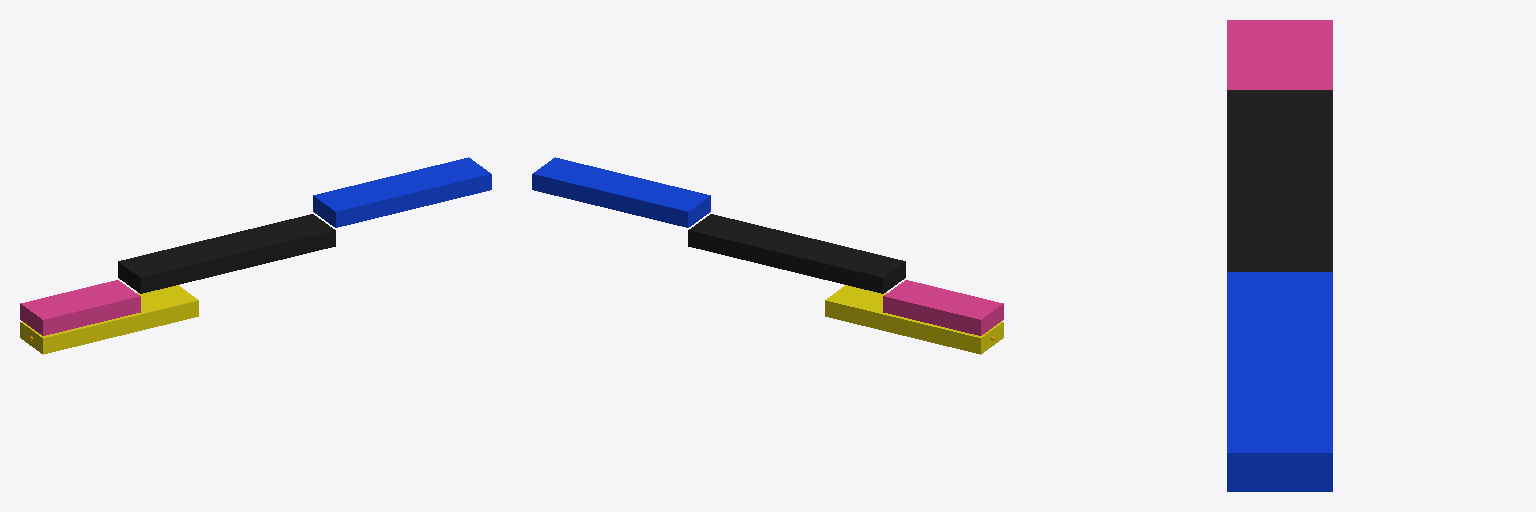
robot.urdf — four_bar_linkage:
<?xml version="1.0" encoding="UTF-8"?>
<!--
  Four-Bar Linkage URDF
  Crank-Rocker-Rocker Configuration
  
  Dimensions:
    Ground (L1): 80mm = 0.08m
    Crank  (L2): 50mm = 0.05m
    Coupler(L3): 100mm = 0.10m
    Rocker (L4): 80mm = 0.08m
  
  Colors mapping requested by user:
    Ground  = Yellow
    Crank   = Pink
    Coupler = Black
    Rocker  = Blue
-->
<robot name="four_bar_linkage">

  <!-- ==================== MATERIALS ==================== -->
  <material name="yellow">
    <color rgba="0.9 0.85 0.1 1.0"/>
  </material>
  <material name="pink">
    <color rgba="0.9 0.3 0.6 1.0"/>
  </material>
  <material name="black">
    <color rgba="0.15 0.15 0.15 1.0"/>
  </material>
  <material name="blue">
    <color rgba="0.1 0.3 0.9 1.0"/>
  </material>

  <!-- ==================== BASE LINK ==================== -->
  <link name="base_link">
    <visual>
      <geometry>
        <sphere radius="0.001"/>
      </geometry>
    </visual>
  </link>

  <!-- ==================== GROUND LINK (L1 = 80mm) - YELLOW ==================== -->
  <link name="ground_link">
    <visual>
      <origin xyz="0.04 0 0" rpy="0 0 0"/>
      <geometry>
        <box size="0.08 0.02 0.008"/>
      </geometry>
      <material name="yellow"/>
    </visual>
    <inertial>
      <origin xyz="0.04 0 0"/>
      <mass value="0.1"/>
      <inertia ixx="1e-6" ixy="0" ixz="0" iyy="1e-6" iyz="0" izz="1e-6"/>
    </inertial>
  </link>

  <joint name="fixed_base" type="fixed">
    <parent link="base_link"/>
    <child link="ground_link"/>
    <origin xyz="0 0 0" rpy="0 0 0"/>
  </joint>

  <!-- ==================== CRANK LINK (L2 = 50mm) - PINK ==================== -->
  <link name="crank_link">
    <visual>
      <origin xyz="0.025 0 0" rpy="0 0 0"/>
      <geometry>
        <box size="0.05 0.02 0.008"/>
      </geometry>
      <material name="pink"/>
    </visual>
    <inertial>
      <origin xyz="0.025 0 0"/>
      <mass value="0.05"/>
      <inertia ixx="1e-6" ixy="0" ixz="0" iyy="1e-6" iyz="0" izz="1e-6"/>
    </inertial>
  </link>

  <joint name="joint_A" type="revolute">
    <parent link="ground_link"/>
    <child link="crank_link"/>
    <origin xyz="0 0 0.009" rpy="0 0 0"/>
    <axis xyz="0 0 1"/>
    <limit lower="-3.14159" upper="3.14159" effort="10" velocity="3.14"/>
  </joint>

  <!-- ==================== COUPLER LINK (L3 = 100mm) - BLACK ==================== -->
  <link name="coupler_link">
    <visual>
      <origin xyz="0.05 0 0" rpy="0 0 0"/>
      <geometry>
        <box size="0.10 0.02 0.008"/>
      </geometry>
      <material name="black"/>
    </visual>
    <inertial>
      <origin xyz="0.05 0 0"/>
      <mass value="0.08"/>
      <inertia ixx="1e-6" ixy="0" ixz="0" iyy="1e-6" iyz="0" izz="1e-6"/>
    </inertial>
  </link>

  <joint name="joint_B" type="revolute">
    <parent link="crank_link"/>
    <child link="coupler_link"/>
    <origin xyz="0.05 0 0.009" rpy="0 0 0"/>
    <axis xyz="0 0 1"/>
    <limit lower="-3.14159" upper="3.14159" effort="10" velocity="3.14"/>
  </joint>

  <!-- ==================== ROCKER LINK (L4 = 80mm) - BLUE ==================== -->
  <link name="rocker_link">
    <visual>
      <origin xyz="0.04 0 0" rpy="0 0 0"/>
      <geometry>
        <box size="0.08 0.02 0.008"/>
      </geometry>
      <material name="blue"/>
    </visual>
    <inertial>
      <origin xyz="0.04 0 0"/>
      <mass value="0.06"/>
      <inertia ixx="1e-6" ixy="0" ixz="0" iyy="1e-6" iyz="0" izz="1e-6"/>
    </inertial>
  </link>

  <joint name="joint_C" type="revolute">
    <parent link="coupler_link"/>
    <child link="rocker_link"/>
    <origin xyz="0.10 0 0.009" rpy="0 0 0"/>
    <axis xyz="0 0 1"/>
    <limit lower="-3.14159" upper="3.14159" effort="10" velocity="3.14"/>
  </joint>

</robot>

--- Render facts (derived) ---
The picture shows the robot from 3 angles, left to right: view 1: azimuth 30°, elevation 25°; view 2: azimuth 150°, elevation 25°; view 3: azimuth 270°, elevation 25°; orthographic projection.
Robot: four_bar_linkage — 5 links, 4 joints (3 revolute, 1 fixed); root link base_link; default pose: every joint at zero.
Visible links, largest first — view 1: coupler_link, rocker_link, ground_link, crank_link; view 2: coupler_link, rocker_link, ground_link, crank_link; view 3: rocker_link, coupler_link, crank_link.
Link boxes in pixels (left/top/right/bottom): coupler_link: left=118, top=214, right=335, bottom=293; rocker_link: left=313, top=157, right=491, bottom=227; ground_link: left=20, top=285, right=198, bottom=354; crank_link: left=20, top=280, right=140, bottom=335; coupler_link: left=688, top=214, right=905, bottom=293; rocker_link: left=532, top=157, right=710, bottom=227; ground_link: left=825, top=285, right=1003, bottom=354; crank_link: left=883, top=280, right=1003, bottom=335; rocker_link: left=1227, top=272, right=1332, bottom=491; coupler_link: left=1227, top=90, right=1332, bottom=271; crank_link: left=1227, top=20, right=1332, bottom=89.
Size in the robot's own frame: 0.231 by 0.02 by 0.035 metres.
Geometry: primitives only (box / cylinder / sphere), no mesh files.
